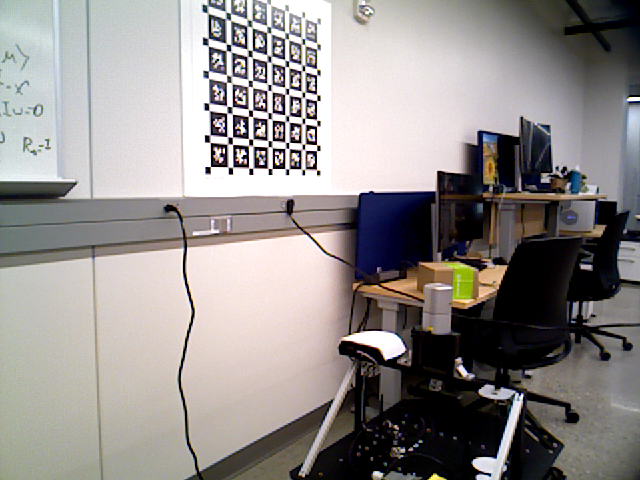painting4: (178, 1, 333, 195)
